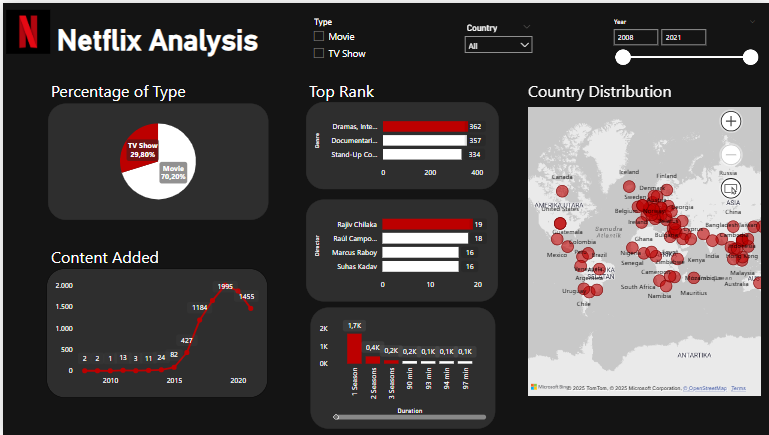

Layout of this report page (visuals, bound fields, positions):
{"tool":"powerbi","page":{"name":"Page 2","canvas":[1280,720],"ordinal":0},"visuals":[{"type":"pieChart","title":"Type Show","fields":{"Y":["netflix_titles.type"],"Category":["netflix_titles.type"]},"box":[73.8,166.2,367.5,193.8],"z":1000},{"type":"map","fields":{"Category":["netflix_titles.country"]},"box":[870,166.7,398.3,491.7],"z":2000},{"type":"lineChart","fields":{"Y":["netflix_titles.title"],"Category":["netflix_titles.date_added.Variation.Date Hierarchy.Year"]},"box":[72.5,442.5,368.8,215],"z":3000},{"type":"barChart","fields":{"Y":["netflix_titles.director"],"Category":["netflix_titles.director"]},"box":[505.6,326.7,320,170],"z":4000},{"type":"slicer","fields":{"Values":["netflix_titles.date_added.Variation.Date Hierarchy.Year"]},"box":[1006,20,262,96],"z":5000},{"type":"barChart","fields":{"Y":["netflix_titles.listed_in"],"Category":["netflix_titles.listed_in"]},"box":[504.4,165.6,321.1,145.6],"z":6000},{"type":"columnChart","fields":{"Category":["netflix_titles.duration"],"Y":["netflix_titles.duration"]},"box":[512,508,308,202],"z":7000},{"type":"textbox","box":[83.8,27.5,368.8,76.2],"z":8000},{"type":"textbox","box":[73.8,121.2,270,63.8],"z":9000},{"type":"textbox","box":[73.8,400,270,63.8],"z":10000},{"type":"textbox","box":[506,122,270,64],"z":11000},{"type":"textbox","box":[870,121.7,270,65],"z":12000},{"type":"slicer","fields":{"Values":["netflix_titles.type"]},"box":[504,18,134,102],"z":13000},{"type":"slicer","fields":{"Values":["netflix_titles.country"]},"box":[760,28,132,80],"z":14000},{"type":"image","box":[0,0,83.8,96.2],"z":15000}]}

Visuals, with their boxes in screenshot pixels (x1, y1, x2, y2), scaled from the page's 1280x720 canvas onto the 769x435 screenshot:
"Type Show" pieChart: <region>44, 100, 265, 218</region>
map - netflix_titles.country: <region>523, 101, 762, 398</region>
lineChart - netflix_titles.title x netflix_titles.date_added.Variation.Date Hierarchy.Year: <region>44, 267, 265, 397</region>
barChart - netflix_titles.director x netflix_titles.director: <region>304, 197, 496, 300</region>
slicer - netflix_titles.date_added.Variation.Date Hierarchy.Year: <region>604, 12, 762, 70</region>
barChart - netflix_titles.listed_in x netflix_titles.listed_in: <region>303, 100, 496, 188</region>
columnChart - netflix_titles.duration x netflix_titles.duration: <region>308, 307, 493, 429</region>
textbox: <region>50, 17, 272, 63</region>
textbox: <region>44, 73, 207, 112</region>
textbox: <region>44, 242, 207, 280</region>
textbox: <region>304, 74, 466, 112</region>
textbox: <region>523, 74, 685, 113</region>
slicer - netflix_titles.type: <region>303, 11, 383, 72</region>
slicer - netflix_titles.country: <region>457, 17, 536, 65</region>
image: <region>0, 0, 50, 58</region>
